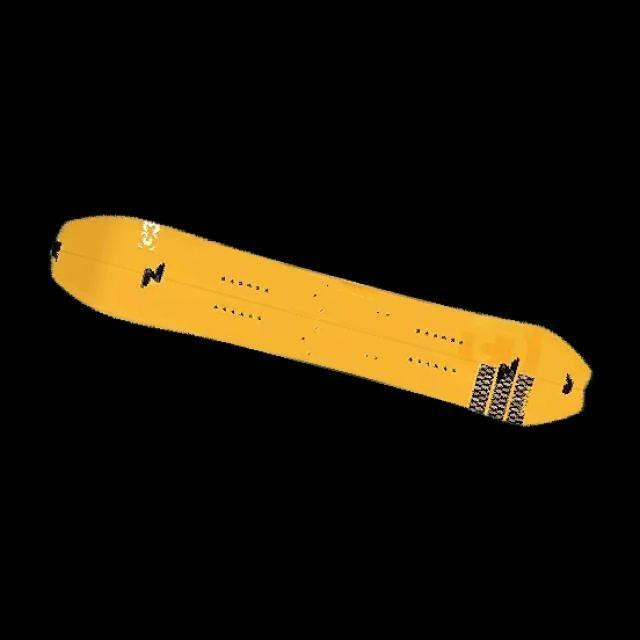Snowboard: (49, 213, 592, 428)
